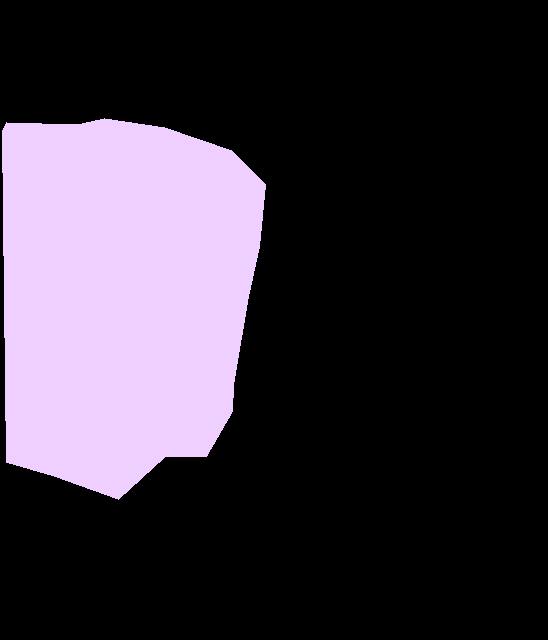Train: (2, 118, 266, 500)
